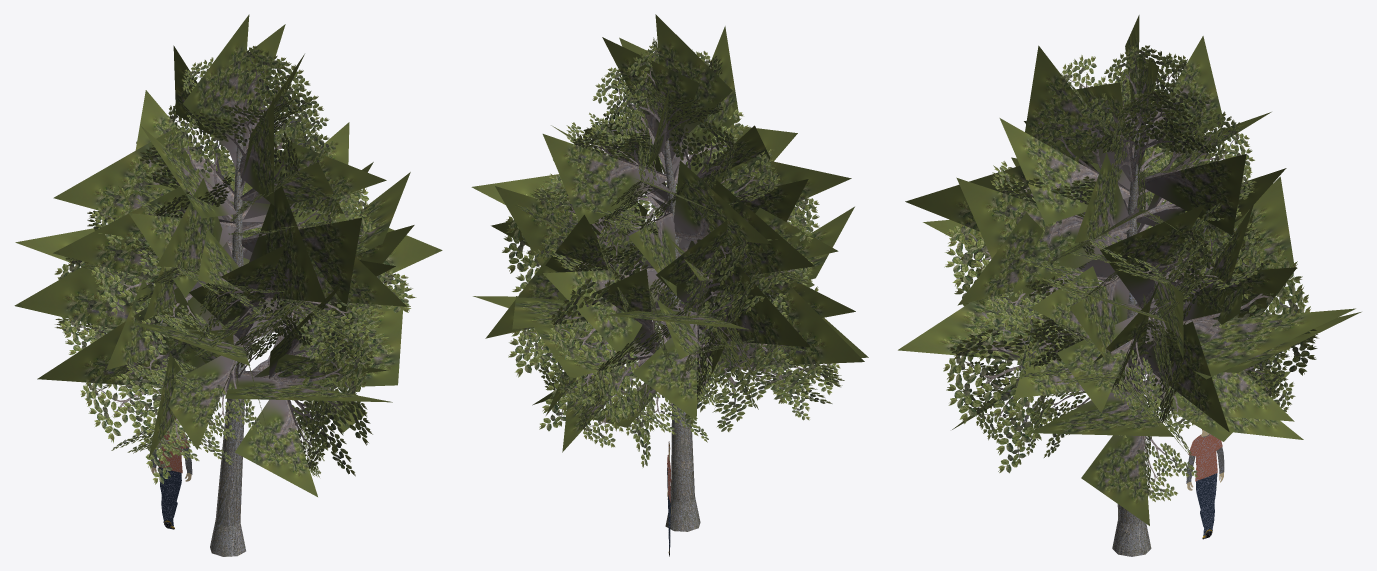
3 views of the same model, side by side, from view 1: azimuth 30°, elevation 25°; view 2: azimuth 150°, elevation 25°; view 3: azimuth 270°, elevation 25° (orthographic). The views are drawn at different scales.
Parts seen in each view (by area): view 1: vetev (×37), tr, Bryce; view 2: vetev (×42), tr; view 3: vetev (×40), tr, Bryce (×2).
Part boxes in pixels (x1,y1,x2,y2): vetev (×37): (14, 14, 442, 496); tr: (210, 131, 245, 556); Bryce: (158, 467, 181, 527); vetev (×42): (471, 14, 868, 467); tr: (663, 138, 700, 531); vetev (×40): (898, 15, 1361, 525); tr: (1112, 129, 1151, 556); Bryce (×2): (1188, 434, 1222, 536).
Bounding box in the file's own units: 249 × 243 × 316.
13 materials, 4 textured.
